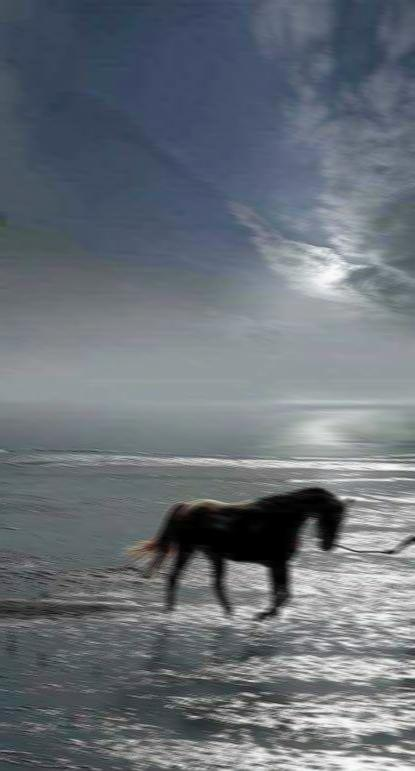horse: (121, 485, 354, 622)
